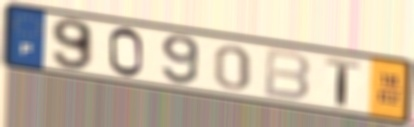0: (212, 44, 257, 91), (107, 26, 144, 78)
9: (48, 17, 95, 73), (159, 33, 201, 86)
B: (262, 46, 313, 103)
T: (323, 56, 362, 108)
